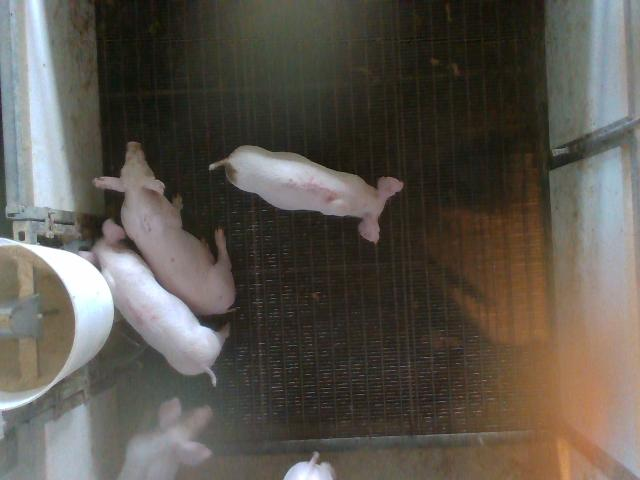pig-4: (79, 220, 229, 384)
pig-5: (209, 145, 404, 243)
